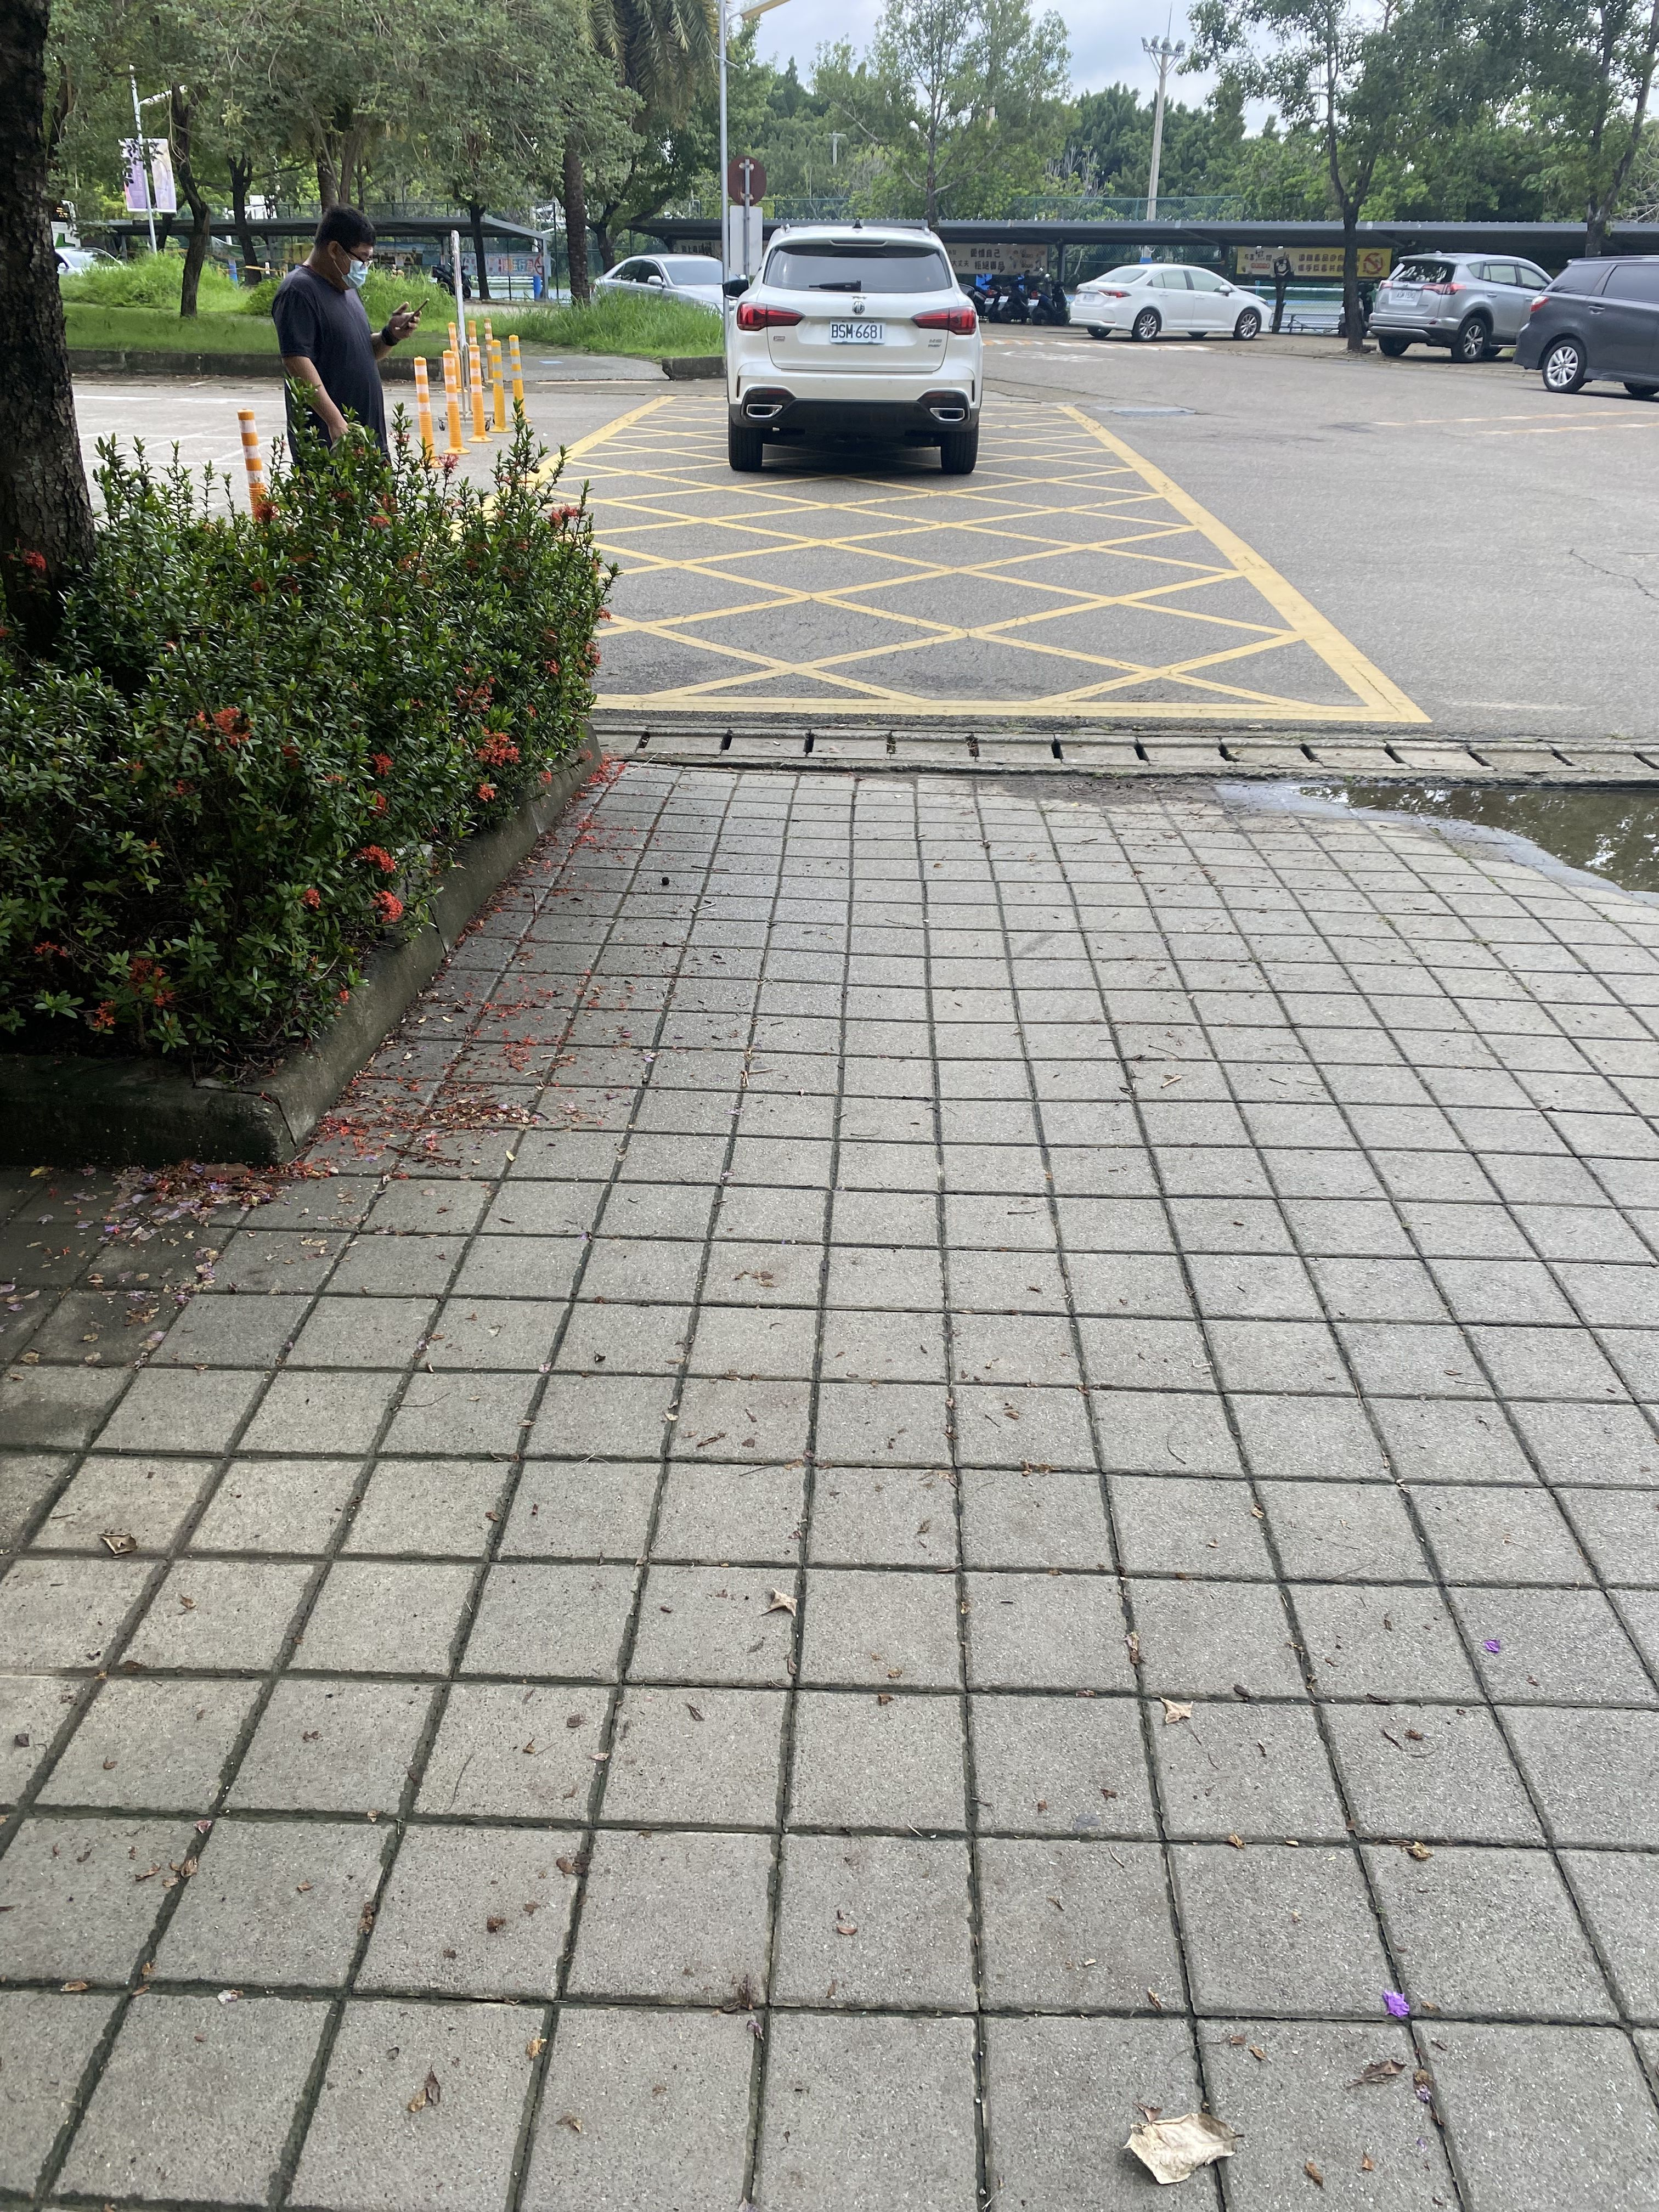sidewalk: (0, 657, 1659, 2212)
